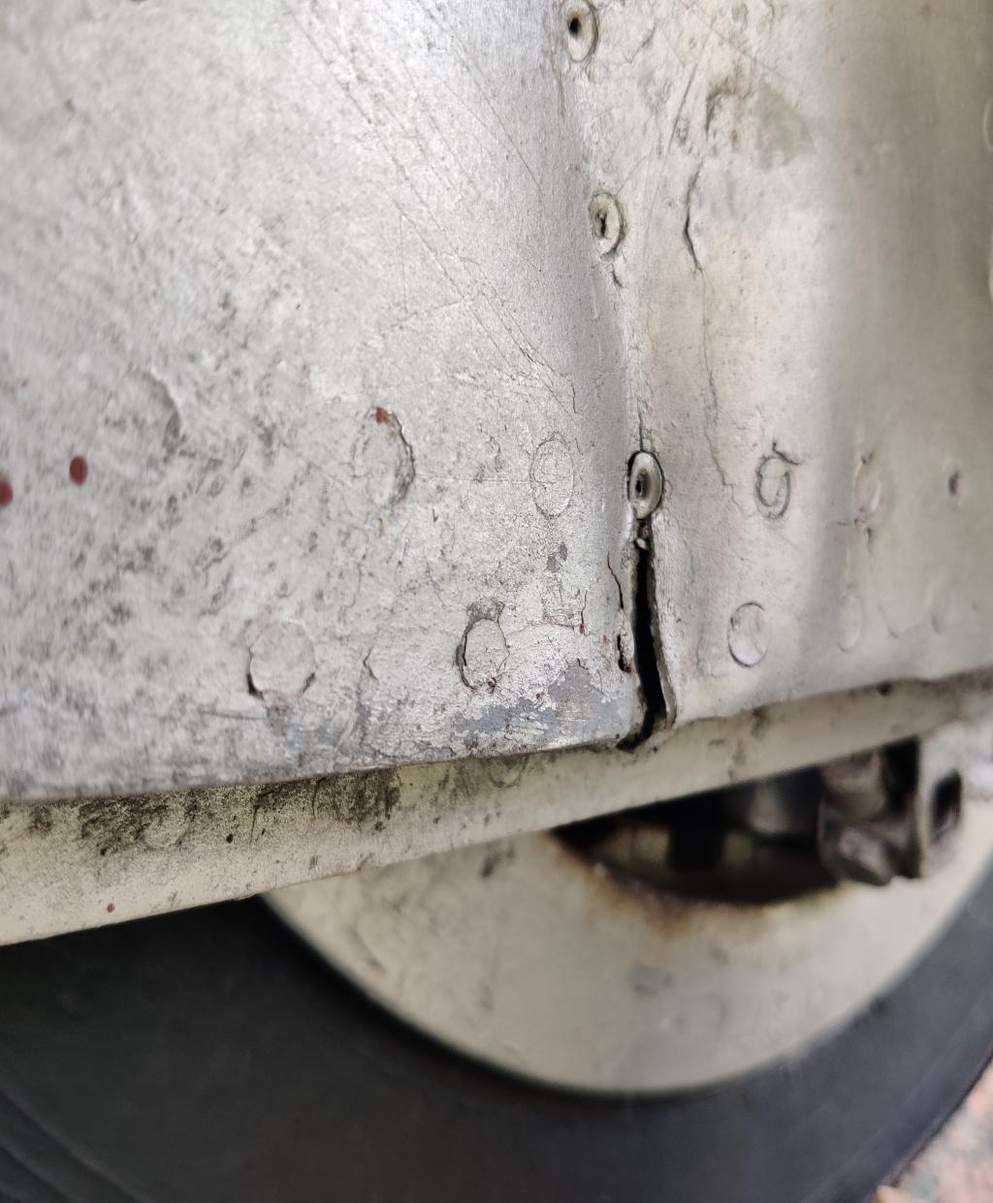crack: (572, 489, 712, 766)
